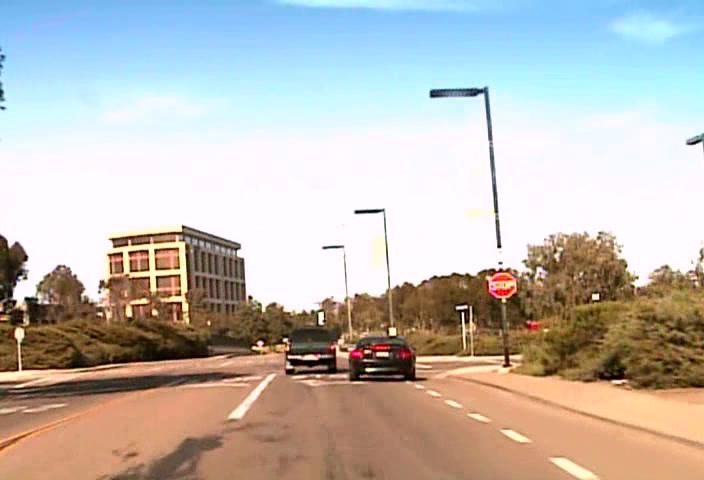stop: (488, 271, 517, 298)
